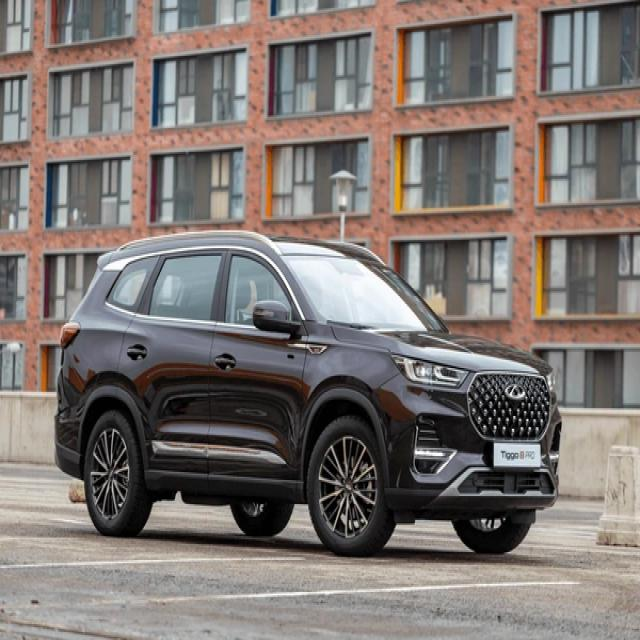mini: (507, 383, 527, 397)
